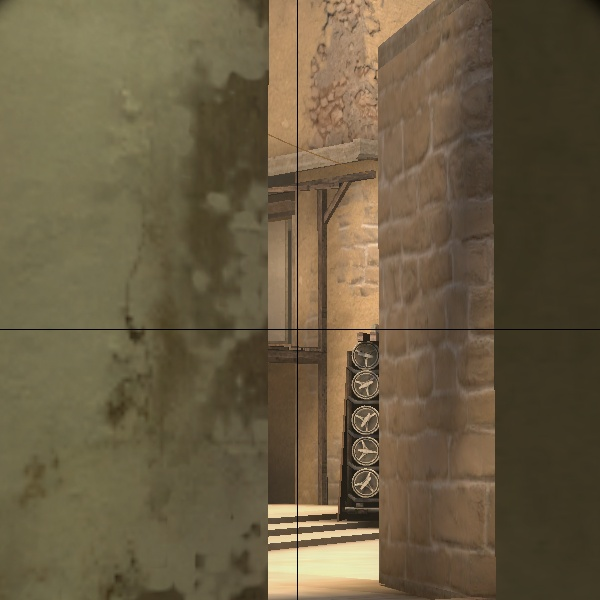t_body: (342, 388, 386, 508)
